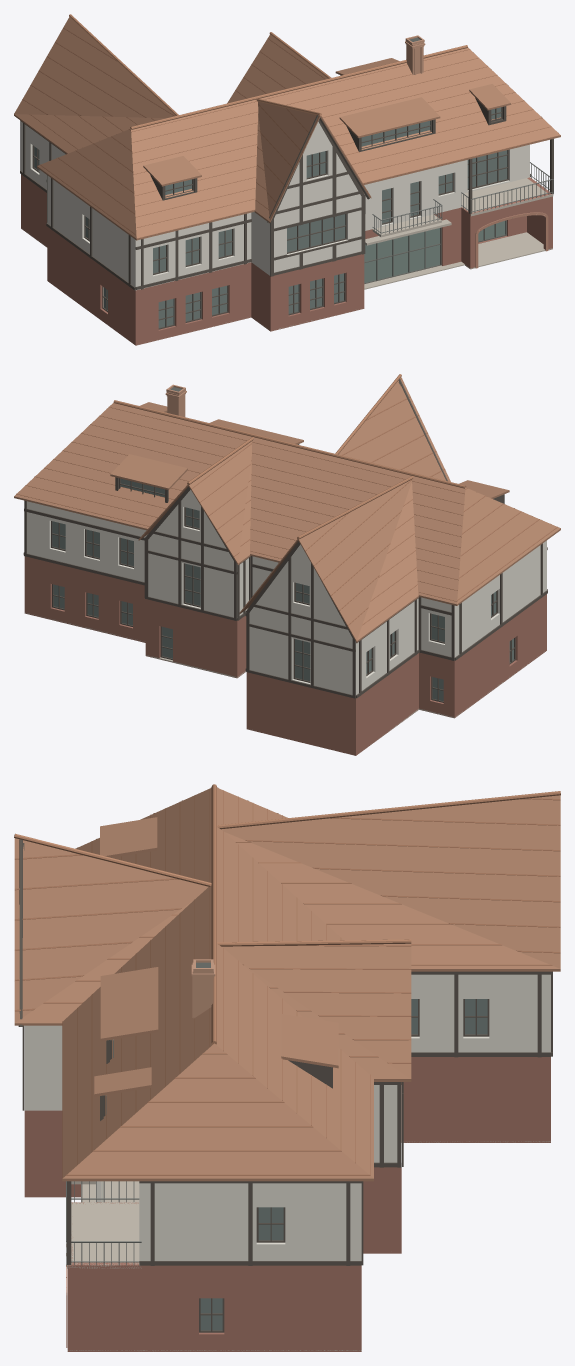
File: changning-xinhua-road-315-garden-house-lod.glb
3 views of the same model, one above another, from view 1: azimuth 30°, elevation 25°; view 2: azimuth 150°, elevation 25°; view 3: azimuth 270°, elevation 25° (orthographic). The views are drawn at different scales.
Parts seen in each view (by area): view 1: 新华路315号花园住宅; view 2: 新华路315号花园住宅; view 3: 新华路315号花园住宅.
Boxes of the visible parts, x1,y1,x2,y2 form: 新华路315号花园住宅: (14, 14, 560, 345); 新华路315号花园住宅: (14, 374, 560, 755); 新华路315号花园住宅: (14, 784, 560, 1351).
Size of the model in its own units: 30.84 by 14.53 by 21.99.
